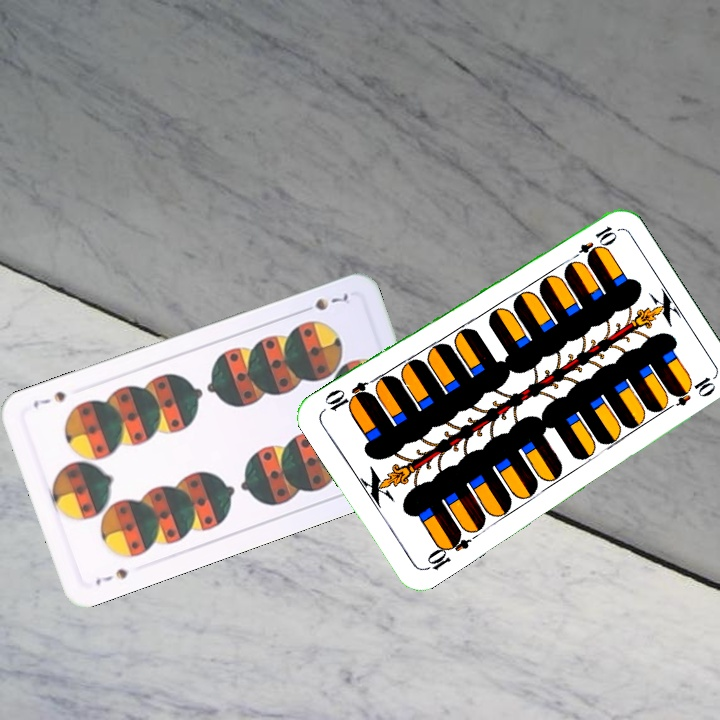E10: (420, 528, 473, 573), (566, 222, 619, 265)
S7: (296, 289, 351, 316), (91, 564, 130, 588)
